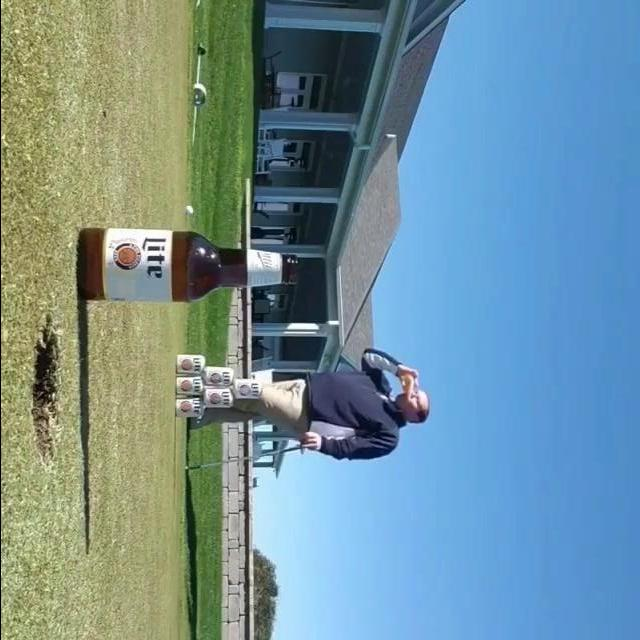golf ball: (185, 205, 192, 214)
golf club-handle: (187, 443, 304, 470)
golf club-head: (298, 443, 304, 454)
